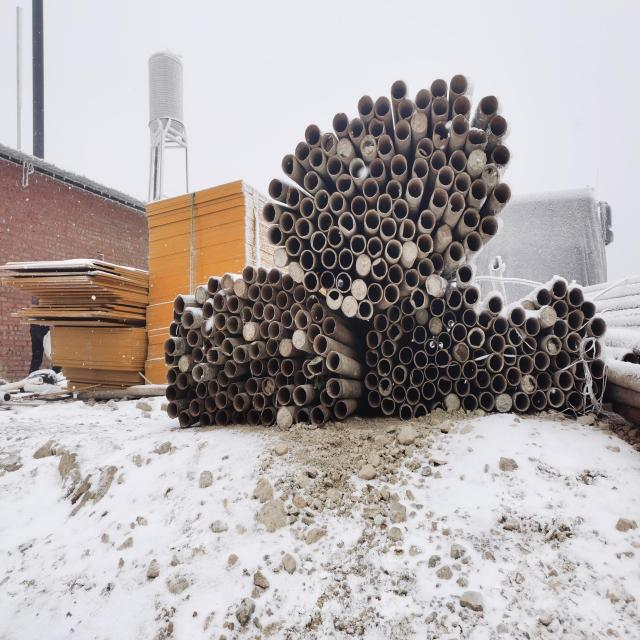pipe: (409, 108, 429, 136), (467, 148, 488, 174), (448, 148, 468, 175), (469, 176, 489, 202), (376, 133, 396, 159), (491, 143, 512, 167), (480, 163, 500, 188), (275, 405, 294, 431), (462, 205, 481, 231), (338, 210, 357, 236), (389, 153, 408, 179), (347, 115, 365, 142), (304, 121, 322, 148), (466, 126, 488, 148), (479, 214, 500, 237), (446, 191, 466, 215), (450, 113, 470, 137), (452, 94, 472, 118), (415, 135, 435, 159), (348, 156, 367, 181), (414, 86, 432, 112), (373, 93, 391, 119), (336, 136, 354, 162), (453, 170, 473, 193), (406, 177, 426, 200), (488, 114, 508, 137), (359, 132, 376, 159), (383, 238, 402, 262), (492, 182, 511, 206), (429, 75, 448, 99), (433, 119, 452, 143), (396, 97, 415, 121), (356, 93, 375, 117), (354, 253, 372, 278), (349, 193, 367, 218), (437, 164, 455, 189), (364, 208, 381, 234), (394, 118, 411, 144), (479, 94, 499, 116), (467, 326, 486, 349), (424, 274, 443, 297), (361, 176, 380, 199), (334, 172, 353, 195), (302, 170, 321, 193), (449, 73, 468, 96), (331, 111, 350, 134), (324, 375, 342, 399), (463, 284, 481, 308), (366, 235, 384, 259), (416, 232, 434, 256), (465, 230, 483, 254), (419, 208, 437, 232), (411, 157, 429, 181), (429, 148, 447, 172), (431, 94, 449, 118), (389, 77, 407, 101), (350, 277, 367, 302), (337, 247, 354, 272), (278, 210, 295, 235), (392, 197, 409, 222), (431, 185, 448, 210), (583, 338, 602, 360), (565, 331, 584, 353), (368, 116, 387, 138), (285, 184, 301, 210), (280, 152, 296, 178), (309, 230, 327, 253), (328, 190, 346, 213), (368, 157, 386, 180), (319, 132, 336, 156), (326, 153, 342, 178), (590, 316, 608, 338), (544, 334, 562, 356), (535, 286, 553, 308), (489, 332, 507, 354), (476, 309, 494, 331), (461, 307, 479, 329), (452, 340, 470, 362), (266, 224, 284, 246), (284, 235, 302, 257), (398, 218, 416, 240), (385, 178, 403, 200), (517, 353, 534, 376), (509, 305, 526, 328), (409, 287, 426, 310), (302, 270, 319, 293), (371, 257, 388, 280), (320, 247, 337, 270), (349, 233, 366, 256), (436, 223, 453, 246), (267, 177, 284, 200), (294, 140, 311, 163), (325, 348, 341, 372), (342, 294, 358, 318), (299, 248, 315, 272), (327, 225, 343, 249), (317, 210, 333, 234), (313, 188, 329, 212), (391, 364, 409, 385), (455, 264, 473, 285), (377, 192, 392, 217), (319, 386, 336, 408), (478, 390, 495, 412), (547, 386, 564, 408), (536, 370, 553, 392), (540, 305, 557, 327), (429, 297, 446, 319), (325, 288, 342, 310), (335, 271, 352, 293), (367, 282, 384, 304), (417, 256, 434, 278), (448, 241, 465, 263), (401, 240, 418, 262), (380, 216, 397, 238), (295, 217, 312, 239), (307, 146, 324, 168), (502, 344, 518, 367), (462, 358, 478, 381), (288, 260, 304, 283), (384, 282, 400, 305), (261, 201, 277, 224), (299, 196, 315, 219), (590, 359, 608, 379), (572, 360, 590, 380), (557, 370, 575, 390), (520, 374, 538, 394), (566, 310, 584, 330), (434, 348, 452, 368), (487, 352, 504, 373), (551, 279, 568, 300), (521, 336, 538, 357), (507, 326, 524, 347), (294, 308, 310, 330), (454, 376, 470, 398), (568, 286, 584, 308), (552, 317, 568, 339), (525, 315, 541, 337), (409, 367, 425, 389), (446, 287, 462, 309), (358, 299, 374, 321), (388, 263, 404, 285), (580, 380, 599, 398), (462, 393, 479, 413), (566, 391, 583, 411), (436, 331, 453, 351), (441, 310, 458, 330), (306, 323, 322, 344), (475, 368, 491, 389), (491, 373, 507, 394), (514, 391, 530, 412), (506, 366, 522, 387), (534, 351, 550, 372), (493, 315, 509, 336), (487, 294, 503, 315), (452, 322, 468, 343), (376, 357, 392, 378), (412, 349, 428, 370), (373, 312, 389, 333), (272, 247, 288, 268), (292, 386, 307, 408), (313, 333, 328, 355), (412, 324, 427, 346), (404, 268, 419, 290), (306, 358, 324, 376), (496, 393, 512, 413), (531, 390, 547, 410), (554, 350, 570, 370), (580, 300, 596, 320), (552, 299, 568, 319), (446, 360, 462, 380), (398, 346, 414, 366), (423, 337, 439, 357), (380, 339, 396, 359), (386, 322, 402, 342), (400, 296, 416, 316), (319, 270, 335, 290), (310, 406, 325, 427), (424, 362, 439, 383), (365, 329, 380, 350), (386, 303, 401, 324), (181, 308, 195, 330), (310, 302, 324, 324), (428, 314, 442, 336), (430, 252, 444, 274), (294, 408, 310, 427), (472, 347, 488, 366), (364, 349, 380, 368), (406, 386, 421, 406), (421, 380, 436, 400), (277, 385, 291, 406), (334, 400, 348, 421), (275, 289, 289, 310), (413, 402, 429, 420), (400, 314, 416, 332), (192, 362, 205, 384), (172, 293, 185, 315), (280, 358, 295, 377), (322, 316, 337, 335), (364, 372, 379, 391), (378, 378, 393, 397), (212, 292, 226, 312), (242, 321, 256, 341), (275, 370, 289, 390), (266, 356, 280, 376), (302, 359, 316, 379), (278, 338, 292, 358), (292, 330, 306, 350), (268, 320, 282, 340), (280, 309, 294, 329), (262, 302, 276, 322), (292, 284, 306, 304), (281, 272, 295, 292), (438, 376, 452, 396), (255, 266, 268, 287), (244, 378, 259, 396), (445, 393, 460, 411), (206, 346, 220, 365), (220, 338, 234, 357), (260, 408, 274, 427), (252, 392, 266, 411), (226, 294, 240, 313), (248, 341, 262, 360), (249, 358, 263, 377), (261, 377, 275, 396), (290, 302, 304, 321), (367, 389, 381, 408), (186, 328, 199, 348), (215, 390, 228, 410), (217, 369, 230, 389), (194, 285, 207, 305), (206, 275, 219, 295), (220, 272, 233, 292), (232, 278, 245, 298), (247, 282, 260, 302), (240, 304, 253, 324), (212, 330, 227, 347), (162, 338, 176, 356), (213, 312, 227, 330), (232, 346, 246, 364), (293, 369, 307, 387), (260, 284, 274, 302), (306, 295, 320, 313), (381, 397, 395, 415), (399, 404, 413, 422), (415, 308, 429, 326), (224, 360, 237, 379), (232, 393, 245, 412), (227, 315, 240, 334), (227, 382, 239, 402), (521, 299, 536, 315), (392, 385, 406, 402), (166, 401, 179, 419), (164, 367, 177, 385), (176, 372, 189, 390), (204, 395, 217, 413), (246, 408, 259, 426), (178, 354, 190, 373), (201, 337, 213, 356), (200, 319, 212, 338), (202, 302, 214, 321), (242, 264, 254, 283), (271, 390, 283, 409), (259, 320, 271, 339), (252, 300, 264, 319), (231, 410, 245, 426), (207, 379, 219, 397), (266, 338, 278, 356), (268, 268, 280, 286), (198, 412, 211, 428), (178, 411, 190, 428), (165, 385, 177, 402), (215, 409, 227, 426), (163, 349, 175, 366), (168, 321, 180, 338), (192, 346, 204, 363), (189, 398, 200, 416), (186, 388, 197, 405), (196, 382, 207, 399), (432, 401, 446, 414), (172, 308, 183, 324)
